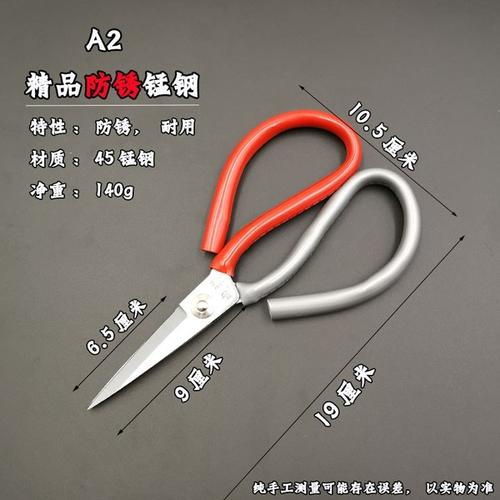scissor: (86, 106, 423, 411)
